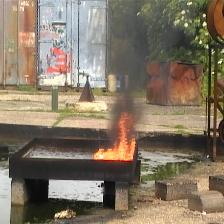fire: (94, 112, 136, 161)
